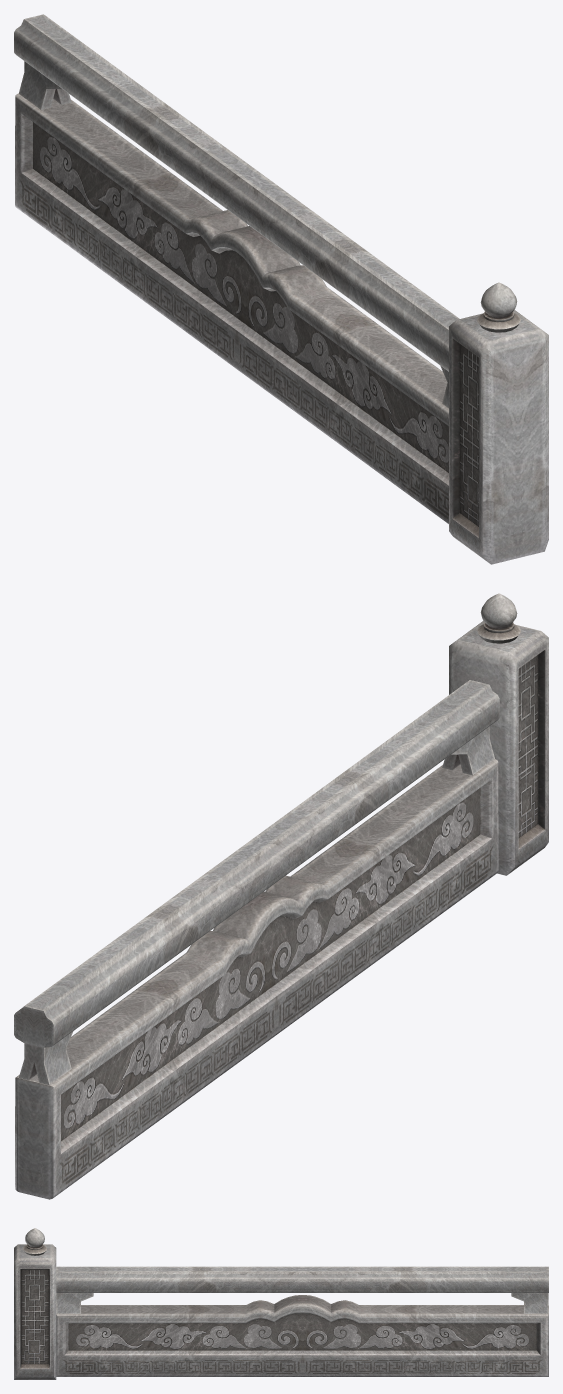
The model's file is SM_Fence.glb.
3 renders of one model, top to bottom at view 1: azimuth 30°, elevation 25°; view 2: azimuth 150°, elevation 25°; view 3: azimuth 270°, elevation 25°, orthographic. The views are drawn at different scales.
Parts seen in each view (by area): view 1: SM_Fence_LOD0; view 2: SM_Fence_LOD0; view 3: SM_Fence_LOD0.
Boxes of the visible parts, x1,y1,x2,y2 form: SM_Fence_LOD0: [14, 14, 548, 564]; SM_Fence_LOD0: [14, 593, 548, 1199]; SM_Fence_LOD0: [14, 1228, 548, 1379].
Bounding box in the file's own units: 0.1581 × 0.5968 × 2.
1 material, 1 textured.
